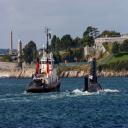submarine: (82, 44, 103, 94)
